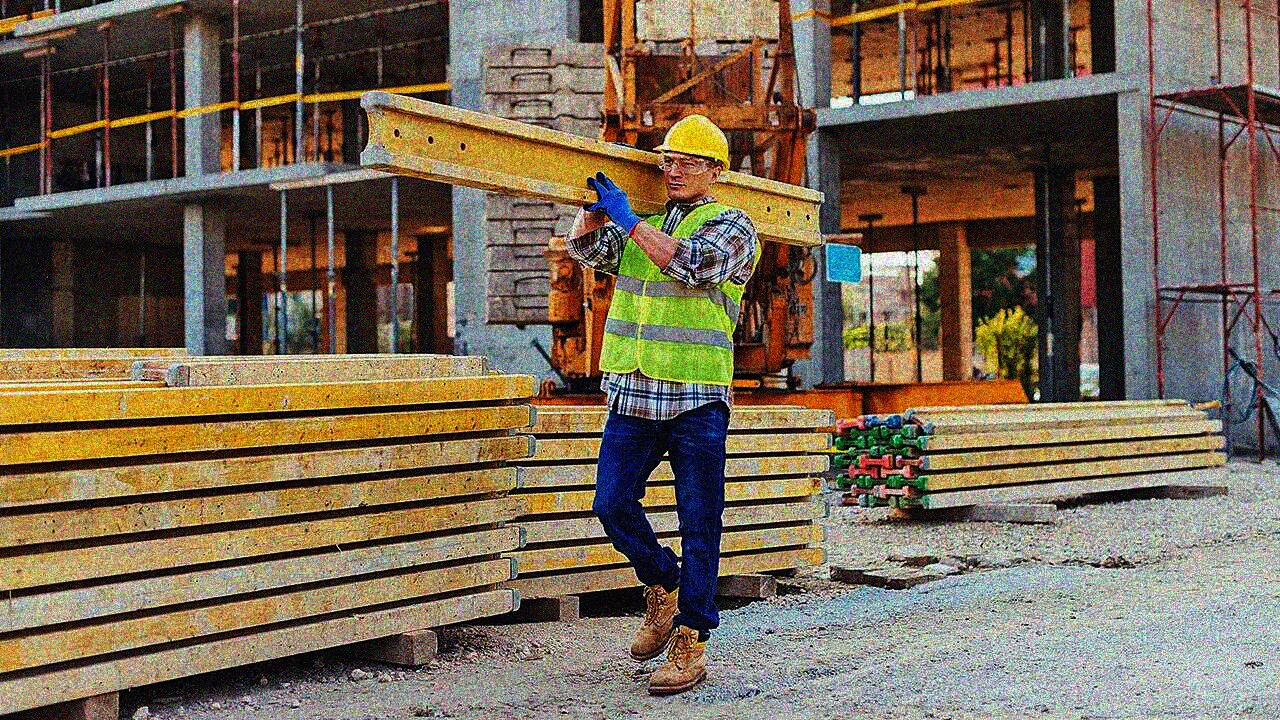helmet: (651, 112, 730, 201)
